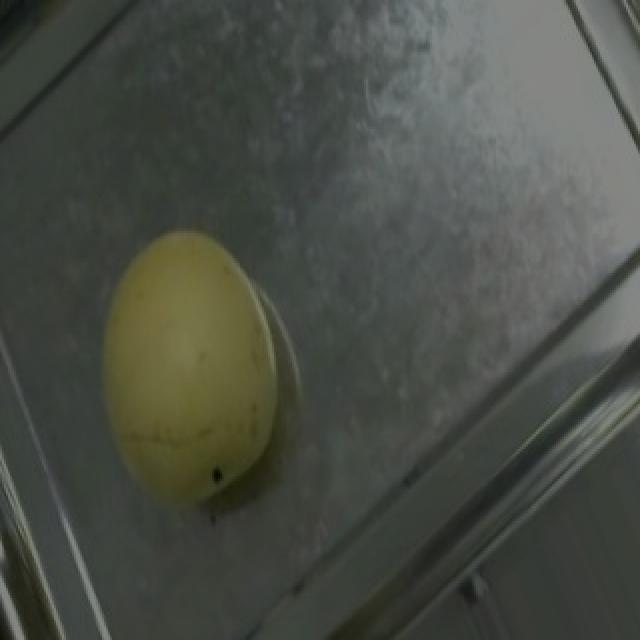Fruit: (54, 191, 332, 543)
